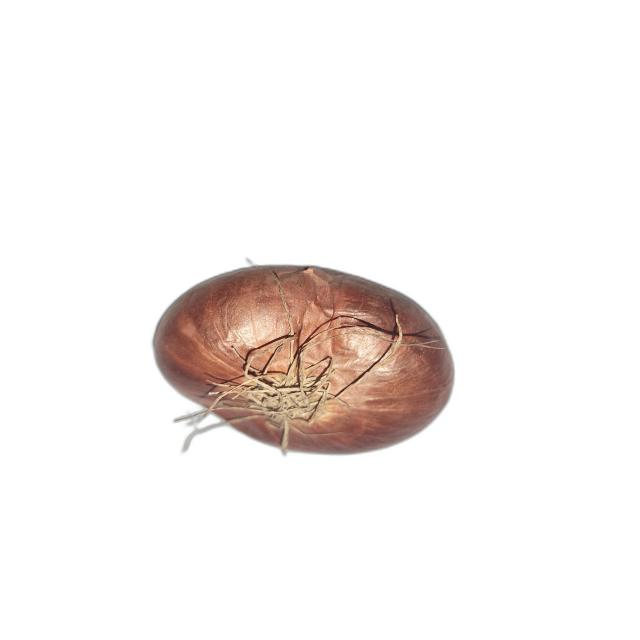onion: (152, 263, 456, 457)
